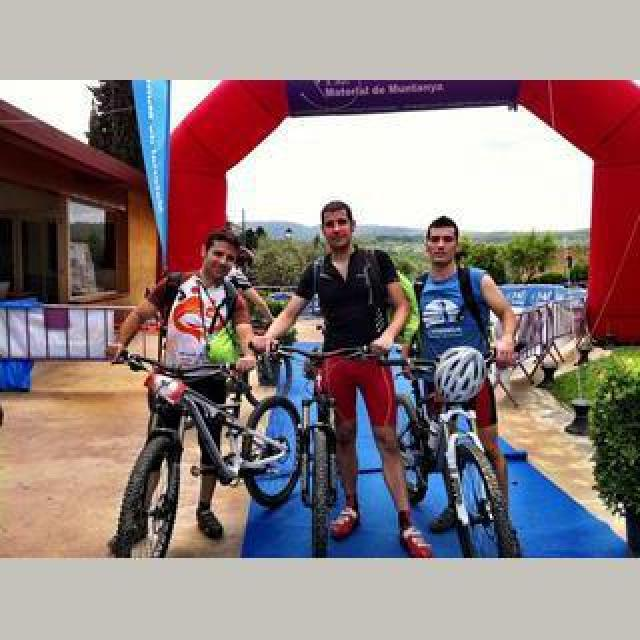MC-Bike: (256, 204, 422, 548), (406, 210, 520, 530), (158, 226, 260, 522)
Person: (256, 336, 450, 554), (110, 348, 304, 556), (396, 348, 524, 558)
